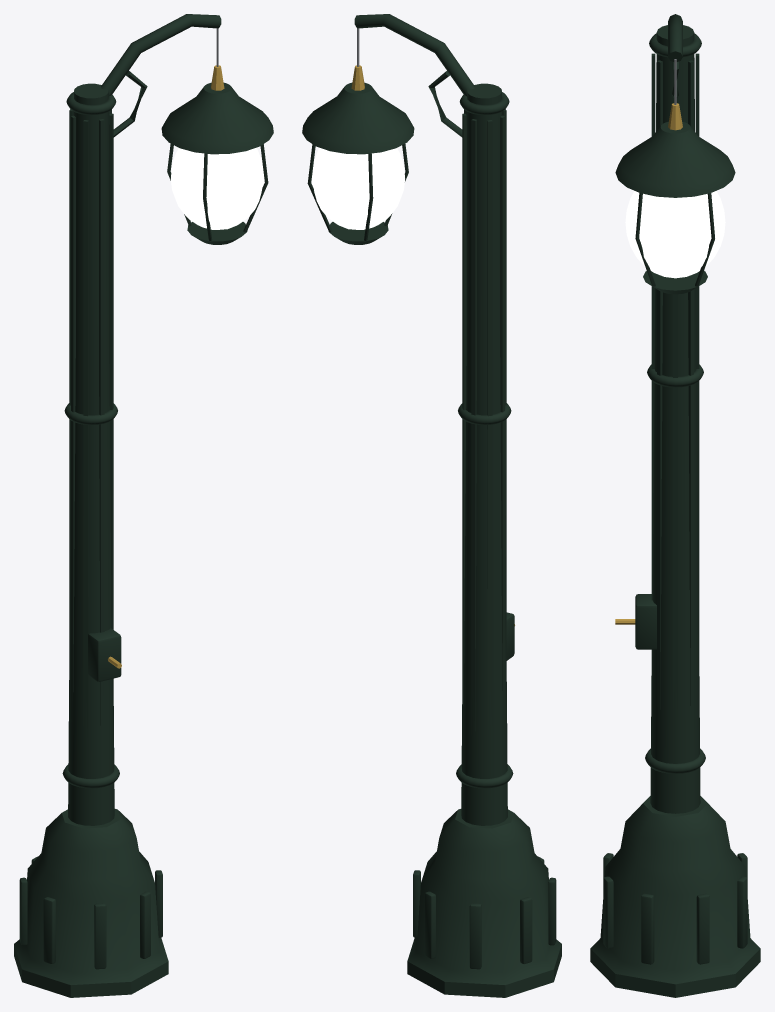
The model's file is arc_lamp.glb.
The picture shows the model from 3 angles, left to right: view 1: azimuth 30°, elevation 25°; view 2: azimuth 150°, elevation 25°; view 3: azimuth 270°, elevation 25°; orthographic projection. The views are drawn at different scales.
Visible parts, largest first — view 1: postShaft, postBase, arcGlobe, hood, flute3, flute2, flute4, flute1, arm, winchBox, flute5, baseRib2 (+6 smaller); view 2: postShaft, postBase, arcGlobe, hood, flute5, flute6, flute4, flute7, arm, flute3, baseRib5, baseRib4 (+5 smaller); view 3: postBase, postShaft, arcGlobe, hood, flute1, flute7, flute0, flute6, flute2, winchBox, baseRib0, baseRib7 (+7 smaller).
Boxes of the visible parts, x1,y1,x2,y2 form: postShaft: (68,83,114,825); postBase: (14,809,168,997); arcGlobe: (171,148,264,229); hood: (161,82,273,154); flute3: (83,120,88,736); flute2: (99,119,104,733); flute4: (71,115,75,734); flute1: (109,113,113,720); arm: (101,14,221,96); winchBox: (88,628,121,681); flute5: (69,109,73,638); baseRib2: (94,903,106,969); postShaft: (461,83,507,825); postBase: (407,809,561,997); arcGlobe: (311,148,404,229); hood: (302,82,414,154); flute5: (487,120,492,737); flute6: (471,119,476,735); flute4: (500,115,504,734); flute7: (462,113,466,721); arm: (354,14,474,96); flute3: (502,109,506,639); baseRib5: (469,903,481,969); baseRib4: (520,897,532,964); postBase: (590,796,760,997); postShaft: (650,25,700,813); arcGlobe: (625,191,725,278); hood: (615,121,735,197); flute1: (657,60,662,709); flute7: (688,60,693,708); flute0: (673,74,677,716); flute6: (695,53,699,697); flute2: (651,53,655,696); winchBox: (635,594,656,649); baseRib0: (641,893,654,964); baseRib7: (696,893,709,964).
Bounding box in the file's own units: 1.2 × 4.35 × 0.68.
Materials: 4 (1 with a texture image).
